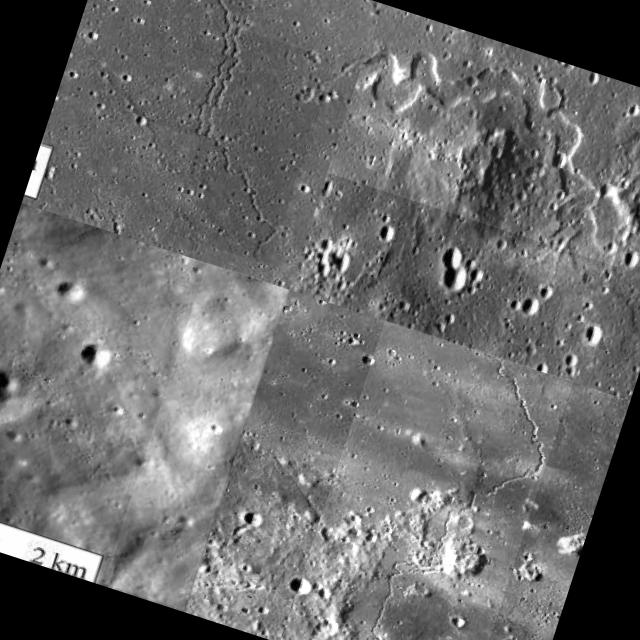rille: (280, 320, 573, 640), (327, 3, 640, 267), (103, 262, 288, 610), (168, 27, 336, 266), (58, 0, 262, 139)
